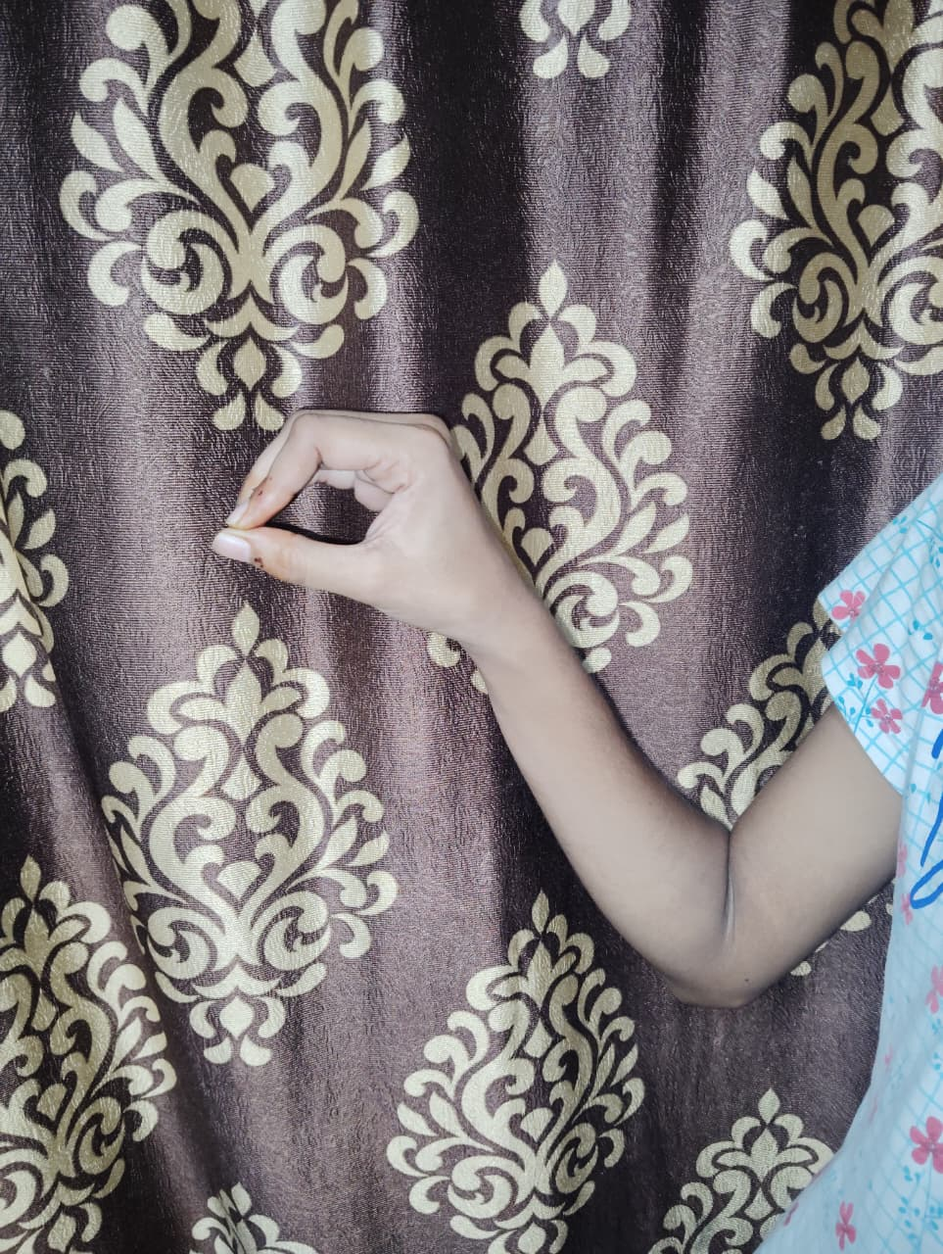O: (210, 408, 482, 599)
